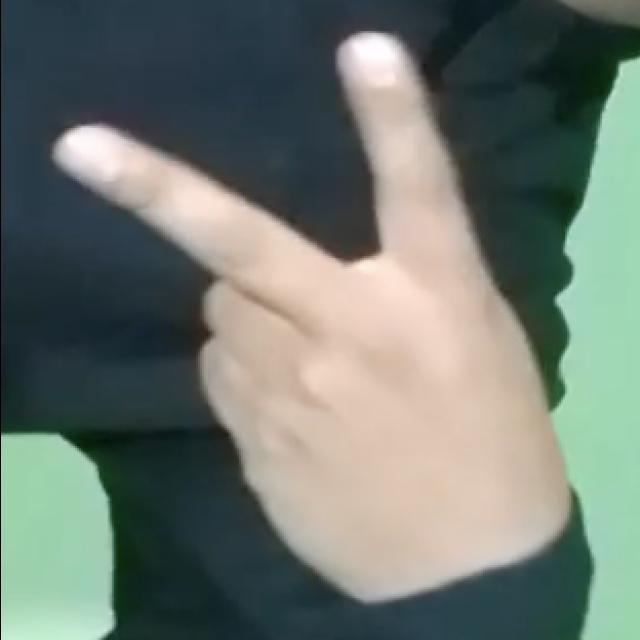K: (45, 24, 569, 584)
